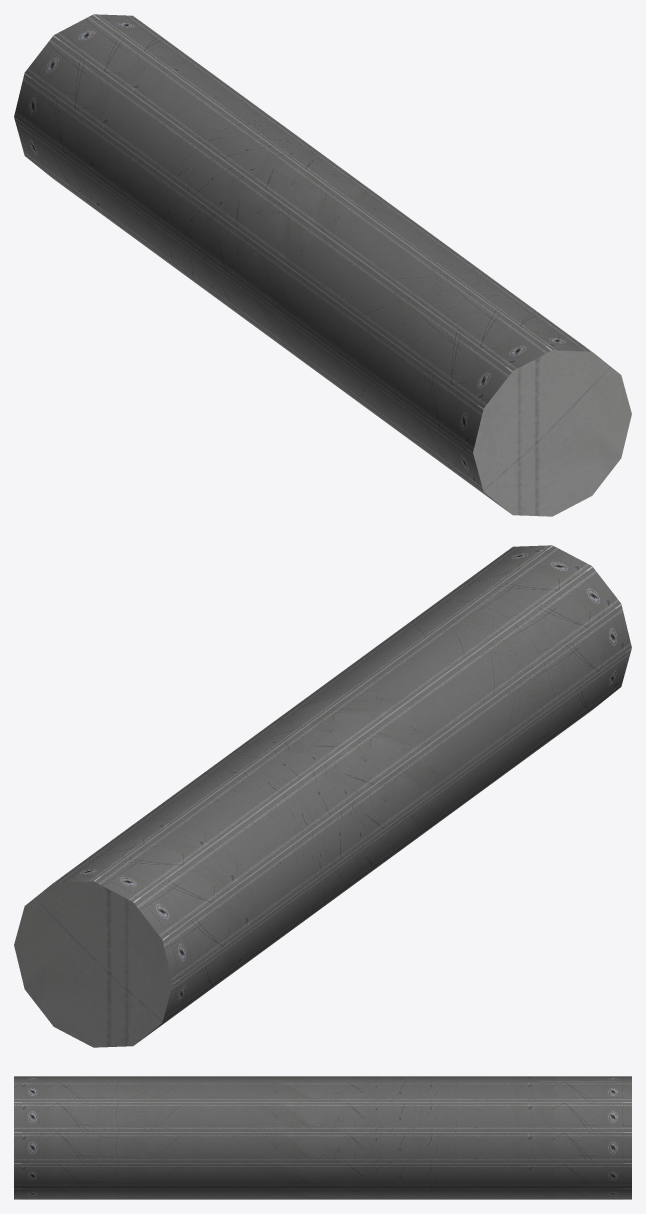
Rendered from SM_Pipe2.fbx.
3 renders of one model, top to bottom at view 1: azimuth 30°, elevation 25°; view 2: azimuth 150°, elevation 25°; view 3: azimuth 270°, elevation 25°, orthographic. The views are drawn at different scales.
Parts seen in each view (by area): view 1: SM_Pipe2_LOD0; view 2: SM_Pipe2_LOD0; view 3: SM_Pipe2_LOD0.
Boxes of the visible parts, <box> form: SM_Pipe2_LOD0: <box>14,14,631,516</box>; SM_Pipe2_LOD0: <box>14,545,631,1047</box>; SM_Pipe2_LOD0: <box>14,1076,631,1199</box>.
Size of the model in its own units: 40 by 200 by 40.
1 material, 1 textured.
